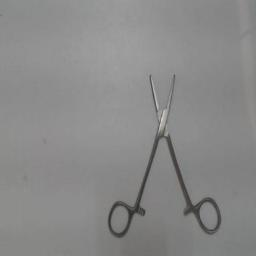Mayo Needle Holder: (105, 66, 223, 238)
